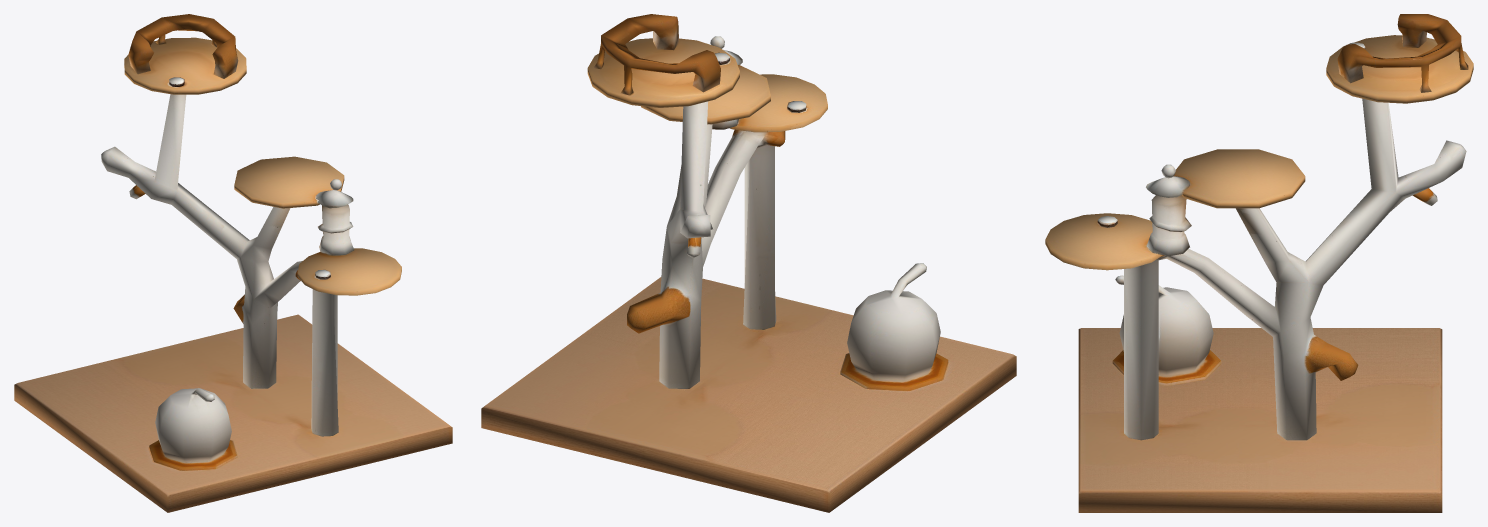
File: catscratch.glb
3 views of the same model, side by side, from view 1: azimuth 30°, elevation 25°; view 2: azimuth 150°, elevation 25°; view 3: azimuth 270°, elevation 25° (orthographic). The views are drawn at different scales.
Parts seen in each view (by area): view 1: tripo_node_a1b4e27a-ce87-40eb-a5e4-8779b8cf7ee0; view 2: tripo_node_a1b4e27a-ce87-40eb-a5e4-8779b8cf7ee0; view 3: tripo_node_a1b4e27a-ce87-40eb-a5e4-8779b8cf7ee0.
Boxes of the visible parts, left/top/right/bottom form: tripo_node_a1b4e27a-ce87-40eb-a5e4-8779b8cf7ee0: left=14, top=14, right=452, bottom=512; tripo_node_a1b4e27a-ce87-40eb-a5e4-8779b8cf7ee0: left=481, top=14, right=1016, bottom=512; tripo_node_a1b4e27a-ce87-40eb-a5e4-8779b8cf7ee0: left=1045, top=14, right=1473, bottom=512.
Bounding box in the file's own units: 0.873 × 0.998 × 0.959.
Materials: 1 (1 with a texture image).
